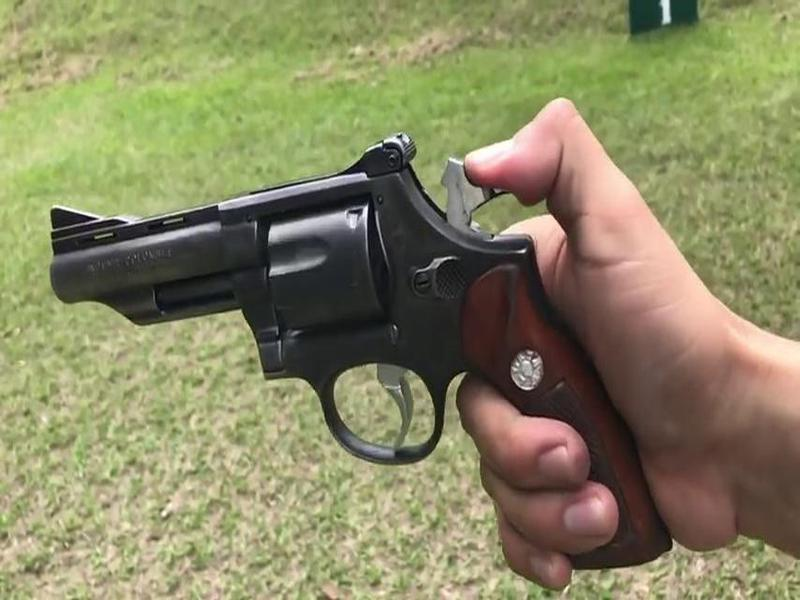Revolver: (45, 150, 688, 579)
